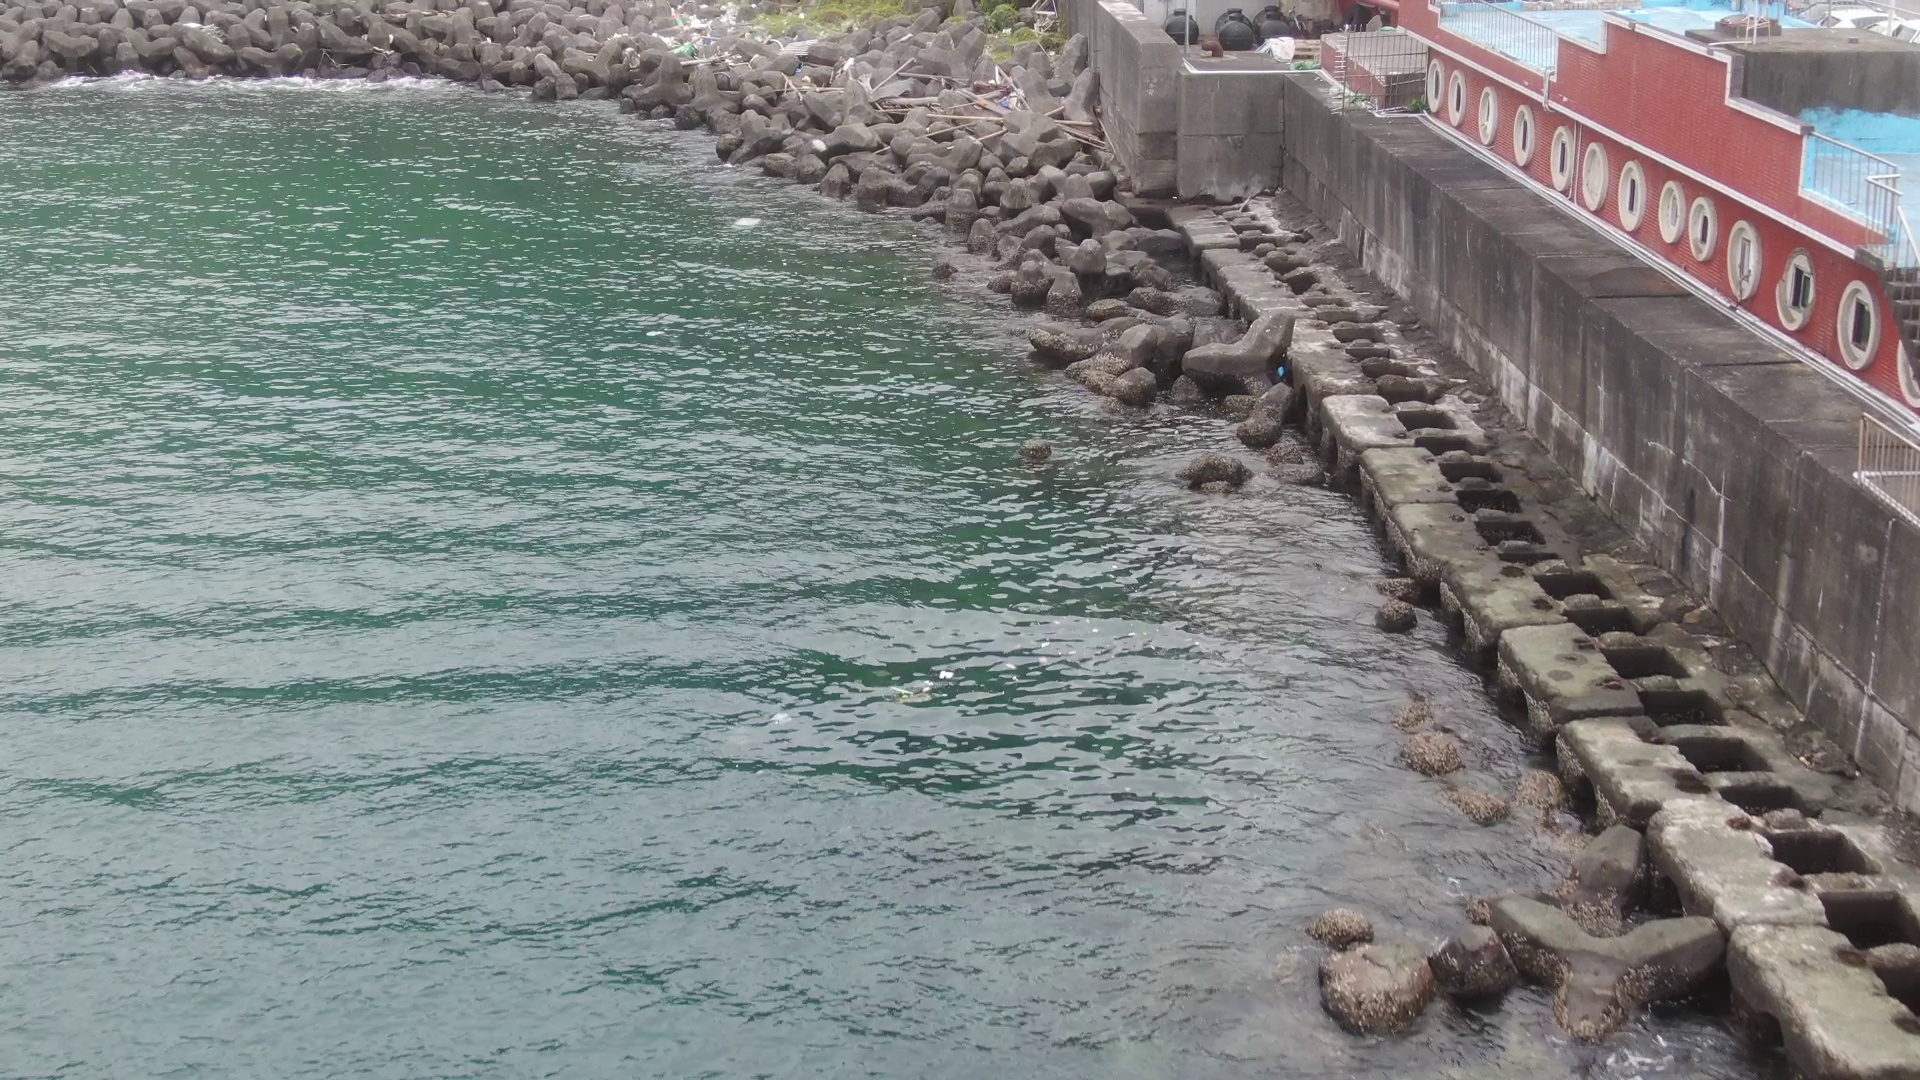garbage: (633, 3, 840, 84), (971, 57, 1040, 136)
